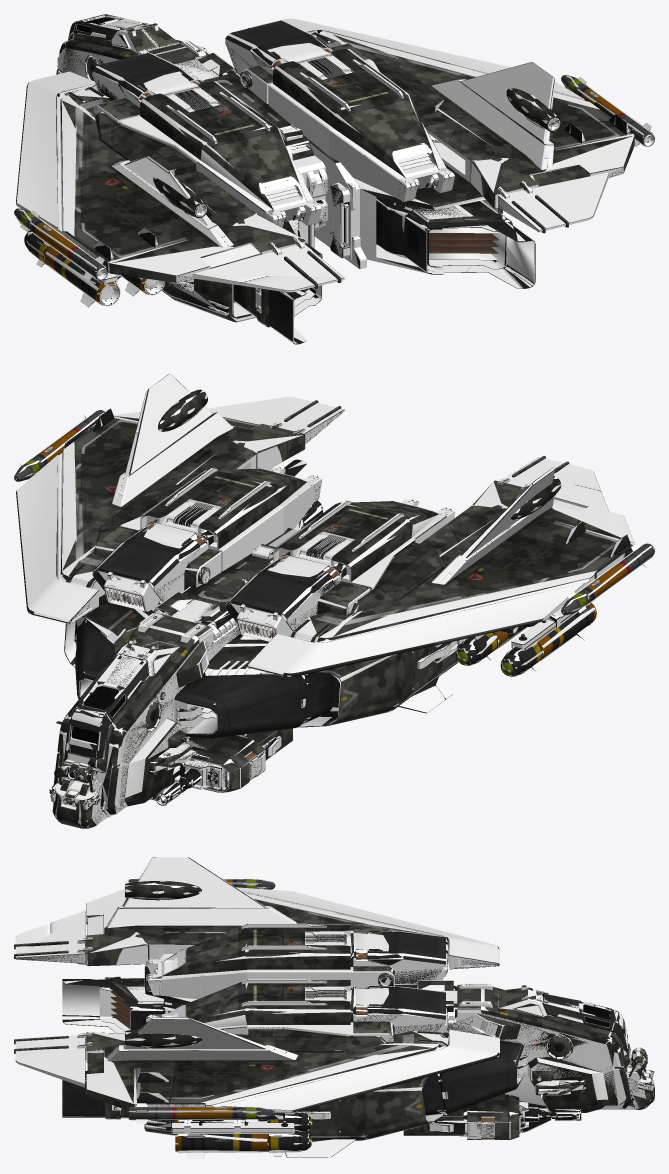
File: a30_thunderbolt.fbx
The picture shows the model from 3 angles, top to bottom: view 1: azimuth 30°, elevation 25°; view 2: azimuth 150°, elevation 25°; view 3: azimuth 270°, elevation 25°; orthographic projection. The views are drawn at different scales.
Visible parts, largest first — view 1: Render_LOD0, PlacementSurface; view 2: Render_LOD0, PlacementSurface; view 3: Render_LOD0, PlacementSurface.
Part boxes in pixels (x1=…): Render_LOD0: x1=14, y1=14, x2=654, y2=344; PlacementSurface: x1=15, y1=14, x2=654, y2=344; Render_LOD0: x1=14, y1=373, x2=654, y2=828; PlacementSurface: x1=14, y1=374, x2=653, y2=827; Render_LOD0: x1=14, y1=857, x2=654, y2=1157; PlacementSurface: x1=14, y1=857, x2=654, y2=1159.
Size of what is drawn, in the model's own units: 5.2 by 1.94 by 6.
